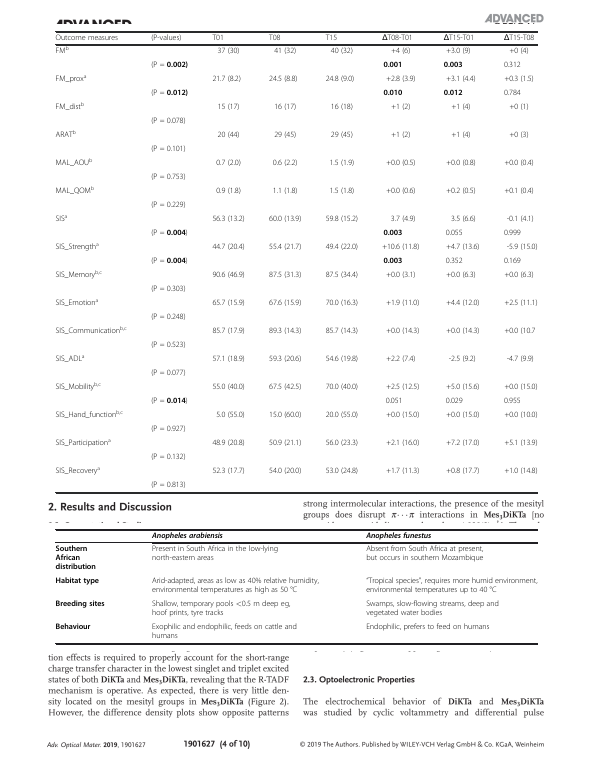borderless: (54, 29, 537, 492), (54, 528, 537, 643)
cell: (365, 577, 538, 596), (151, 577, 320, 596), (151, 623, 298, 642), (151, 600, 291, 619), (365, 600, 500, 619), (151, 545, 279, 564), (365, 545, 484, 564), (365, 623, 490, 633), (54, 545, 97, 573), (55, 325, 128, 336), (55, 409, 124, 420), (151, 532, 224, 541), (55, 437, 112, 448), (365, 532, 432, 541), (55, 34, 119, 43), (55, 269, 103, 280), (54, 600, 106, 610), (55, 381, 102, 392), (55, 465, 101, 476), (55, 241, 100, 252), (55, 297, 99, 308), (54, 577, 100, 587), (55, 185, 95, 196), (55, 157, 93, 168), (54, 623, 91, 633), (55, 73, 87, 84), (150, 61, 189, 70), (150, 89, 189, 98), (150, 229, 189, 238), (381, 243, 420, 252), (150, 257, 189, 266), (150, 397, 189, 406), (55, 101, 85, 112), (55, 353, 85, 364), (150, 117, 186, 126), (150, 145, 186, 154), (150, 173, 186, 182), (150, 201, 186, 210), (150, 285, 186, 294), (150, 313, 186, 322), (150, 341, 186, 350), (150, 369, 186, 378), (150, 425, 186, 434), (150, 453, 186, 462), (150, 481, 186, 490), (211, 215, 246, 224), (211, 243, 246, 252), (445, 243, 480, 252), (211, 271, 246, 280), (211, 299, 246, 308), (385, 299, 420, 308), (445, 299, 480, 308), (503, 299, 538, 308), (211, 327, 246, 336), (385, 327, 420, 336), (445, 327, 480, 336), (211, 355, 246, 364), (211, 383, 246, 392), (385, 383, 420, 392), (445, 383, 480, 392), (503, 383, 538, 392), (385, 411, 420, 420), (445, 411, 480, 420), (503, 411, 538, 420), (211, 439, 246, 448), (385, 439, 420, 448), (445, 439, 480, 448), (503, 439, 538, 448), (211, 467, 246, 476), (385, 467, 420, 476), (445, 467, 480, 476), (503, 467, 538, 476), (268, 215, 302, 224), (325, 215, 359, 224), (268, 243, 302, 252), (325, 243, 359, 252), (268, 271, 302, 280), (325, 271, 359, 280), (268, 299, 302, 308), (325, 299, 359, 308), (268, 327, 302, 336), (325, 327, 359, 336), (268, 355, 302, 364), (325, 355, 359, 364), (268, 383, 302, 392), (325, 383, 359, 392), (268, 411, 302, 420), (325, 411, 359, 420), (268, 439, 302, 448), (325, 439, 359, 448), (268, 467, 302, 476), (325, 467, 359, 476), (381, 34, 414, 43), (503, 327, 536, 336), (150, 34, 182, 43), (443, 34, 475, 43), (503, 34, 535, 43), (445, 75, 477, 84), (503, 75, 535, 84), (445, 159, 477, 168), (503, 159, 535, 168), (445, 187, 477, 196), (503, 187, 535, 196), (506, 243, 538, 252), (445, 271, 477, 280), (503, 271, 535, 280), (211, 75, 242, 84), (385, 75, 416, 84), (385, 159, 416, 168), (385, 187, 416, 196), (385, 271, 416, 280), (385, 355, 416, 364), (215, 411, 246, 420), (268, 75, 298, 84), (325, 75, 355, 84), (506, 215, 535, 224), (448, 355, 477, 364), (506, 355, 535, 364), (215, 159, 242, 168), (328, 159, 355, 168), (215, 187, 242, 196), (328, 187, 355, 196), (450, 215, 477, 224), (55, 129, 77, 140), (445, 47, 471, 56), (272, 159, 298, 168), (272, 187, 298, 196), (390, 215, 416, 224), (273, 47, 297, 56), (330, 47, 354, 56), (273, 103, 297, 112), (330, 103, 354, 112), (273, 131, 297, 140), (330, 131, 354, 140), (217, 47, 240, 56), (217, 103, 240, 112), (217, 131, 240, 140), (390, 47, 411, 56), (508, 47, 529, 56), (390, 103, 411, 112), (450, 103, 471, 112), (508, 103, 529, 112), (390, 131, 411, 140), (450, 131, 471, 140), (508, 131, 529, 140), (382, 61, 403, 69), (382, 89, 403, 97), (382, 229, 403, 237), (382, 257, 403, 265), (55, 45, 70, 56), (503, 61, 521, 70), (503, 89, 521, 98), (445, 229, 463, 238), (503, 229, 521, 238), (445, 257, 463, 266), (503, 257, 521, 266), (385, 397, 403, 406), (445, 397, 463, 406), (503, 397, 521, 406), (443, 61, 463, 69), (443, 89, 463, 97), (55, 213, 68, 224), (211, 34, 225, 43), (268, 34, 281, 43), (325, 34, 338, 43)
